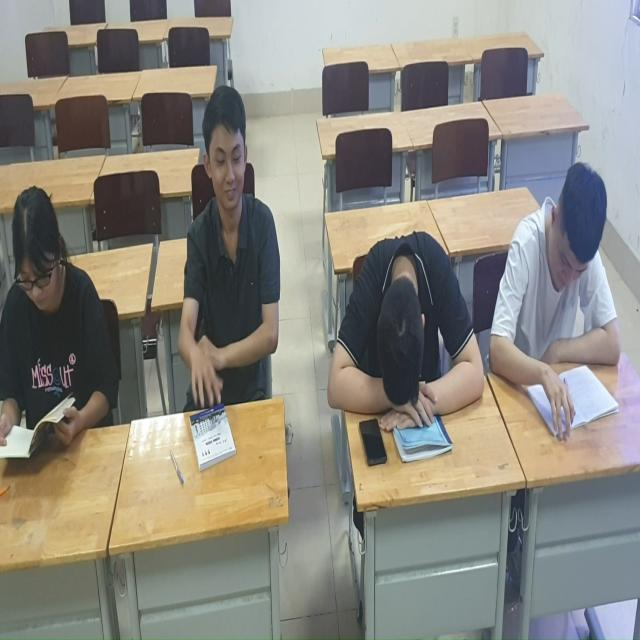read: (485, 126, 635, 431), (157, 83, 288, 426), (1, 161, 128, 459)
sleep: (329, 212, 479, 439)
